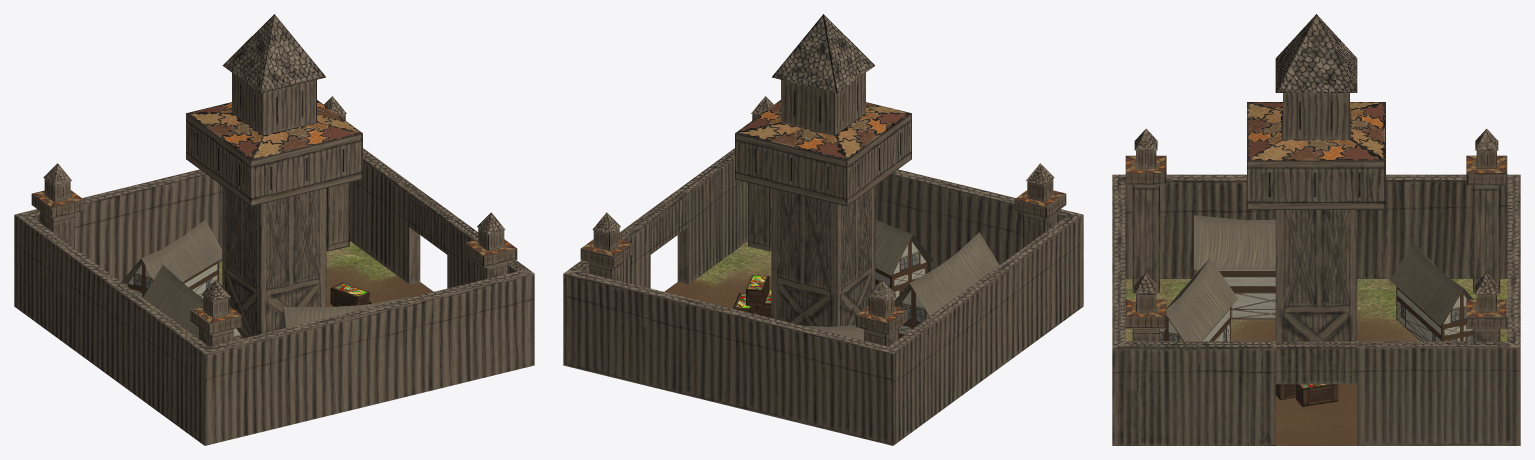
The model's file is centre_ville.obj.
3 views of the same model, side by side, from view 1: azimuth 30°, elevation 25°; view 2: azimuth 150°, elevation 25°; view 3: azimuth 270°, elevation 25° (orthographic). The views are drawn at different scales.
Visible parts, largest first — view 1: Circle; view 2: Circle; view 3: Circle.
Boxes of the visible parts, x1=… form: Circle: x1=14, y1=14, x2=534, y2=445; Circle: x1=563, y1=14, x2=1083, y2=445; Circle: x1=1112, y1=14, x2=1520, y2=445.
Bounding box in the file's own units: 6 × 5.6 × 6.
